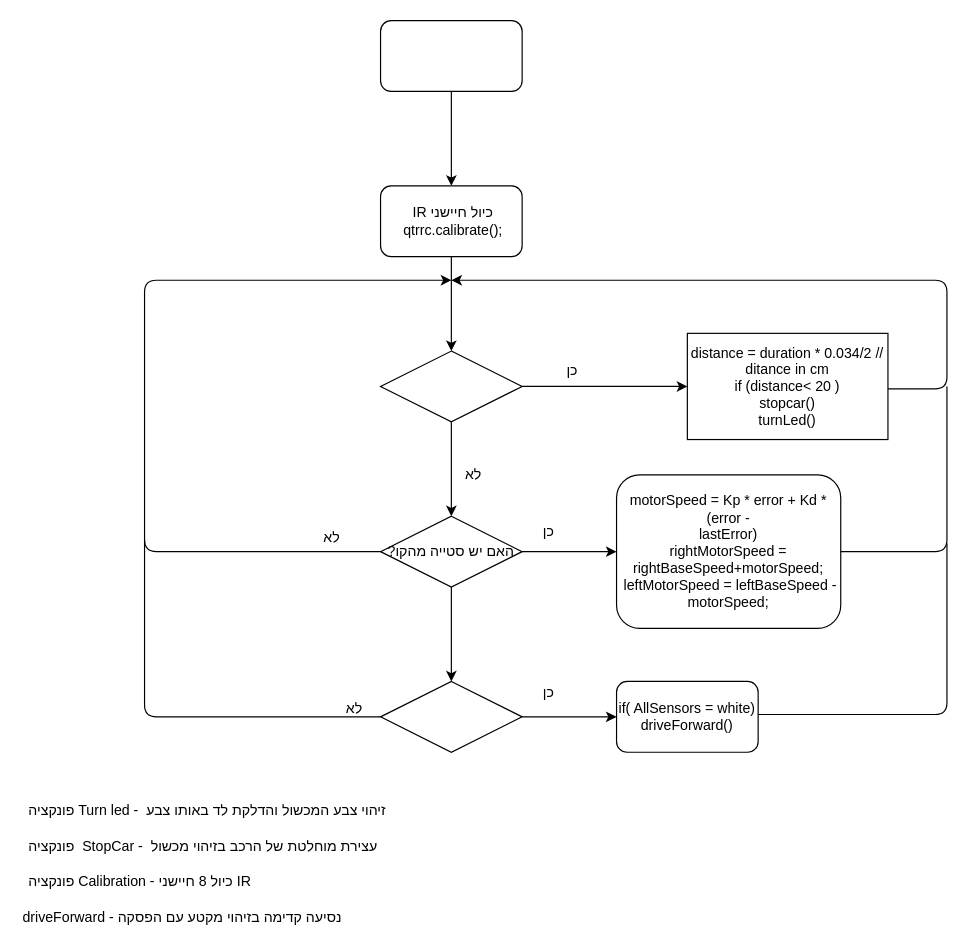
Image size: 977x950. Some labels were removed from this diagram. The centre of each missing label's shape, as x and y in pixels:
"אתחול משתנים" goes at point 450,55.
"האם יש מכשול ?" goes at point 450,386.
"האם יש מקטע עם הפסקות?" goes at point 450,716.
